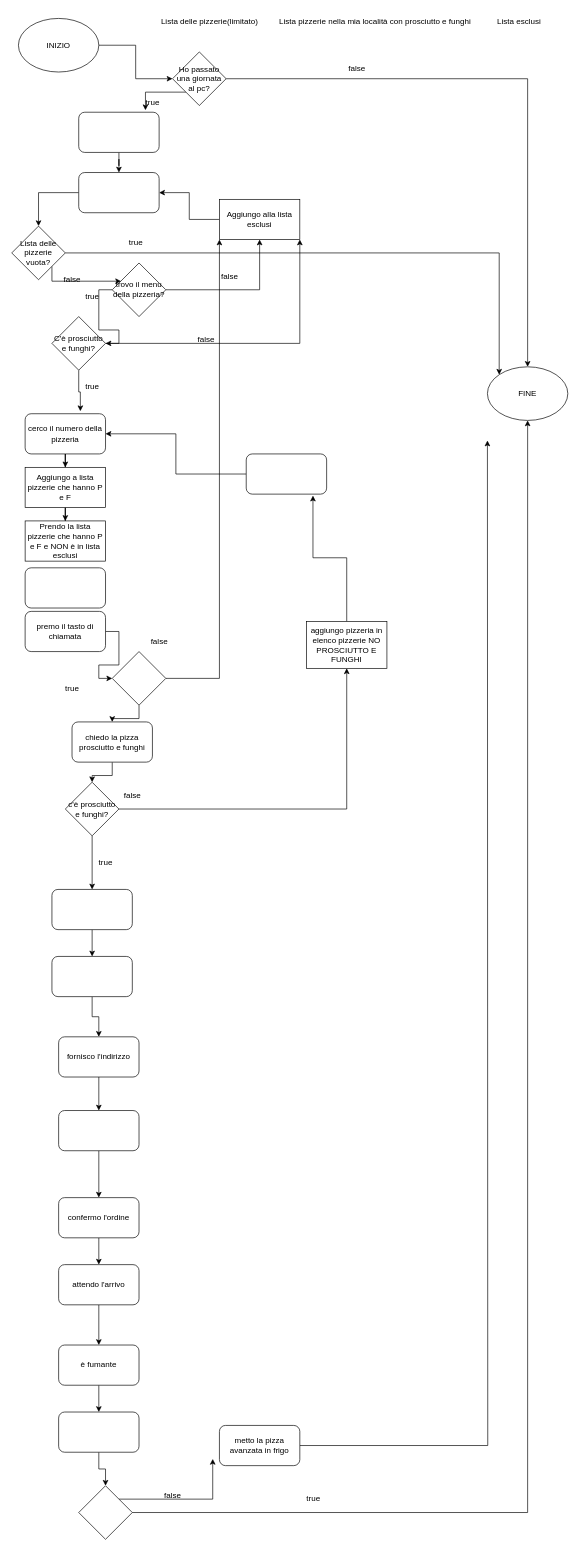
The diagram is 580 pixels wide and 1551 high, and some of its shapes have lost their labels. The shapes that lost their labels are listed below. From the top down, each one's centre as x and y in pixels, then its label:
At point (118, 132): "ho voglia di una pizza".
At point (118, 192): "trovo una pizzeria della lista delle mie località, NON in lista esclusi".
At point (286, 473): "cerco nella lista pizzerie che non hanno risposto".
At point (65, 587): "compongo il numero".
At point (139, 678): "risponde?".
At point (91, 909): "ordino la pizza".
At point (91, 976): "chiedo se consegna al mio indirizzo".
At point (98, 1130): "chiedo se può consegnare ad ora X".
At point (98, 1431): "la mangio".
At point (105, 1512): "la finisco?".
